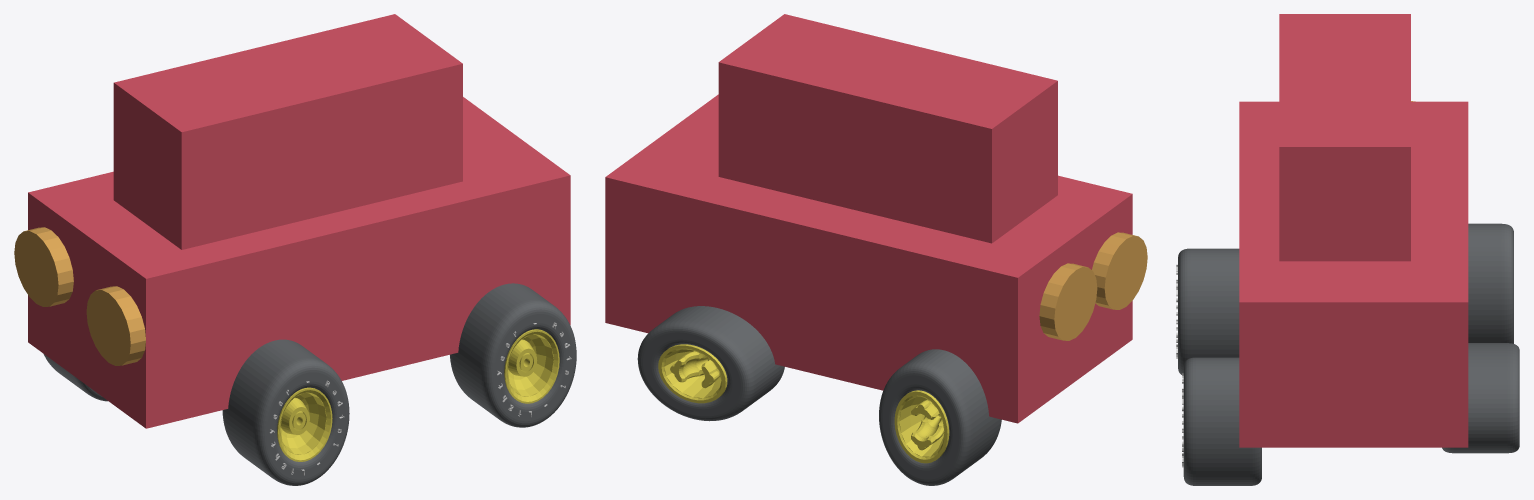
The model's file is Stunning Kieran-Trug.glb.
3 views of the same model, side by side, from view 1: azimuth 30°, elevation 25°; view 2: azimuth 150°, elevation 25°; view 3: azimuth 270°, elevation 25° (orthographic). The views are drawn at different scales.
Parts seen in each view (by area): view 1: Mesh_Mesh_head_geo.001_lambert2SG.001; view 2: Mesh_Mesh_head_geo.001_lambert2SG.001; view 3: Mesh_Mesh_head_geo.001_lambert2SG.001.
Part boxes in pixels (x1,y1,x2,y2): Mesh_Mesh_head_geo.001_lambert2SG.001: [14, 14, 576, 485]; Mesh_Mesh_head_geo.001_lambert2SG.001: [605, 14, 1147, 485]; Mesh_Mesh_head_geo.001_lambert2SG.001: [1176, 14, 1519, 485].
Size of the model in its own units: 88 by 62.63 by 60.
